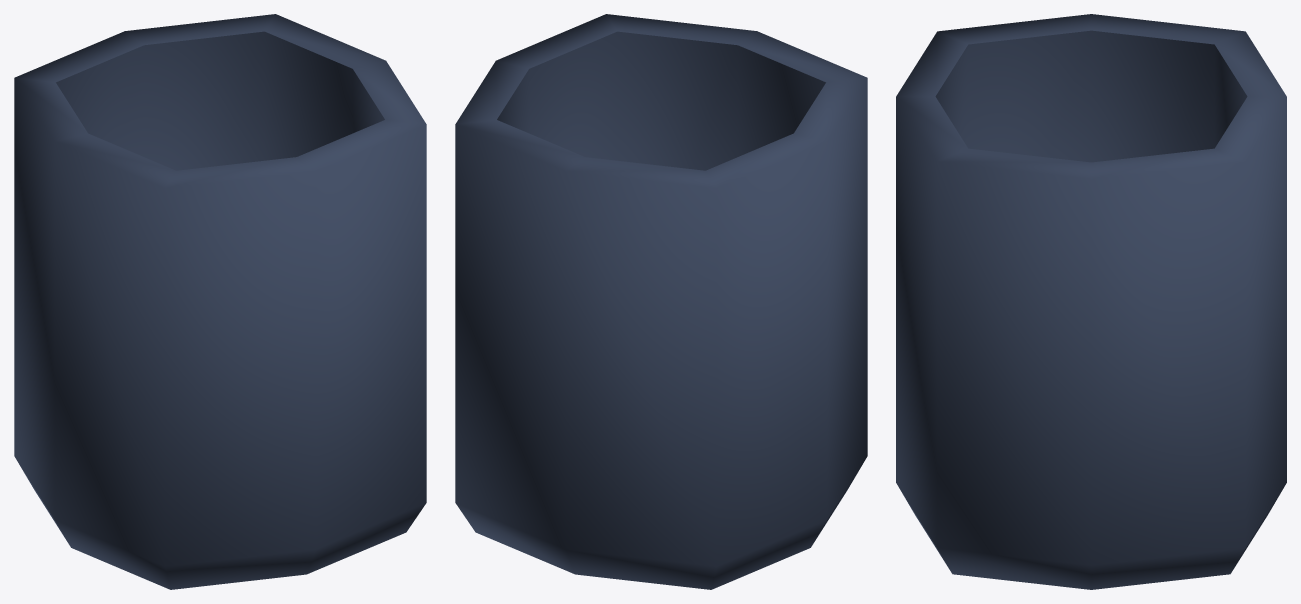
Rendered from character_cup.glb.
The picture shows the model from 3 angles, left to right: view 1: azimuth 30°, elevation 25°; view 2: azimuth 150°, elevation 25°; view 3: azimuth 270°, elevation 25°; orthographic projection. The views are drawn at different scales.
Visible parts, largest first — view 1: Cup; view 2: Cup; view 3: Cup.
Part boxes in pixels (bbox=[...]): Cup: bbox=[14, 14, 426, 589]; Cup: bbox=[455, 14, 867, 589]; Cup: bbox=[896, 14, 1286, 589].
Bounding box in the file's own units: 0.112 × 0.1325 × 0.112.
